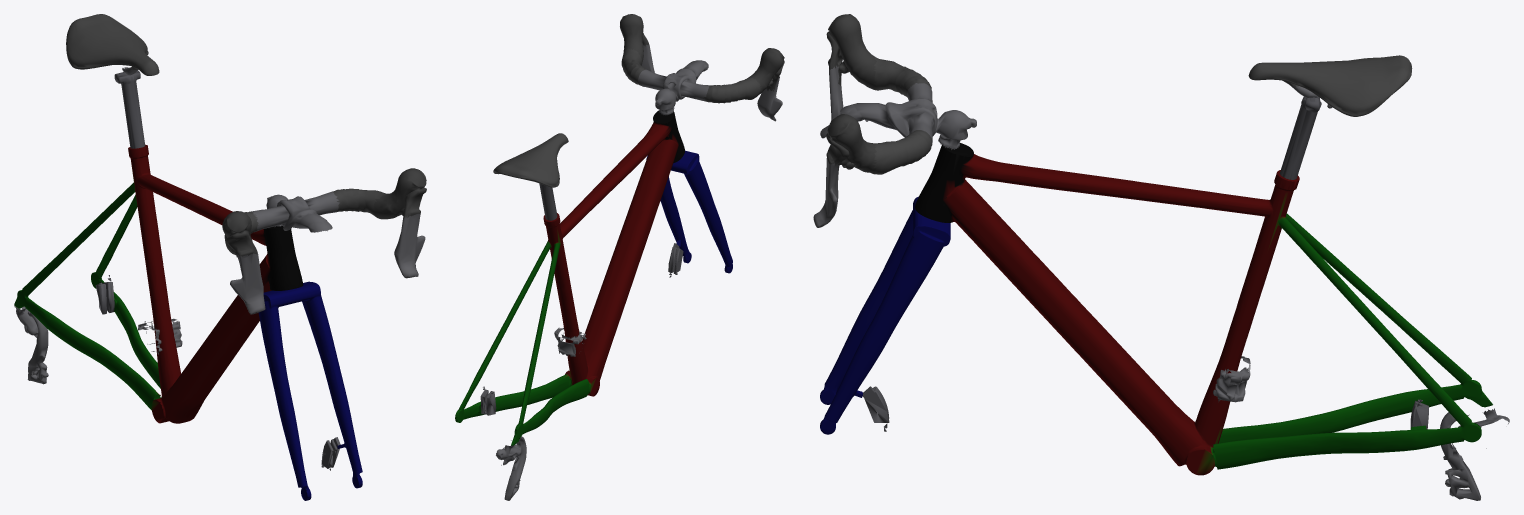
The model's file is look785xs_lod1.glb.
3 views of the same model, side by side, from view 1: azimuth 30°, elevation 25°; view 2: azimuth 150°, elevation 25°; view 3: azimuth 270°, elevation 25° (orthographic). The views are drawn at different scales.
Visible parts, largest first — view 1: frame, cockpit, fork, saddle, seatpost, etrier_arriere; view 2: frame, cockpit, fork, saddle, seatpost, etrier_arriere; view 3: frame, cockpit, fork, saddle, seatpost.
Part boxes in pixels (x1,y1,x2,y2): frame: (14,144,303,423); cockpit: (222,168,426,314); fork: (258,281,362,500); saddle: (66,14,159,75); seatpost: (114,70,145,148); etrier_arriere: (95,275,114,314); frame: (455,110,684,500); cockpit: (620,14,784,121); fork: (646,150,732,273); saddle: (493,133,568,187); seatpost: (539,183,557,220); etrier_arriere: (480,386,496,415); frame: (915,143,1509,500); cockpit: (813,14,976,227); fork: (820,196,950,434); saddle: (1248,55,1412,116); seatpost: (1279,95,1321,179).
Size of the model in its own units: 0.4147 by 0.7532 by 1.05.
